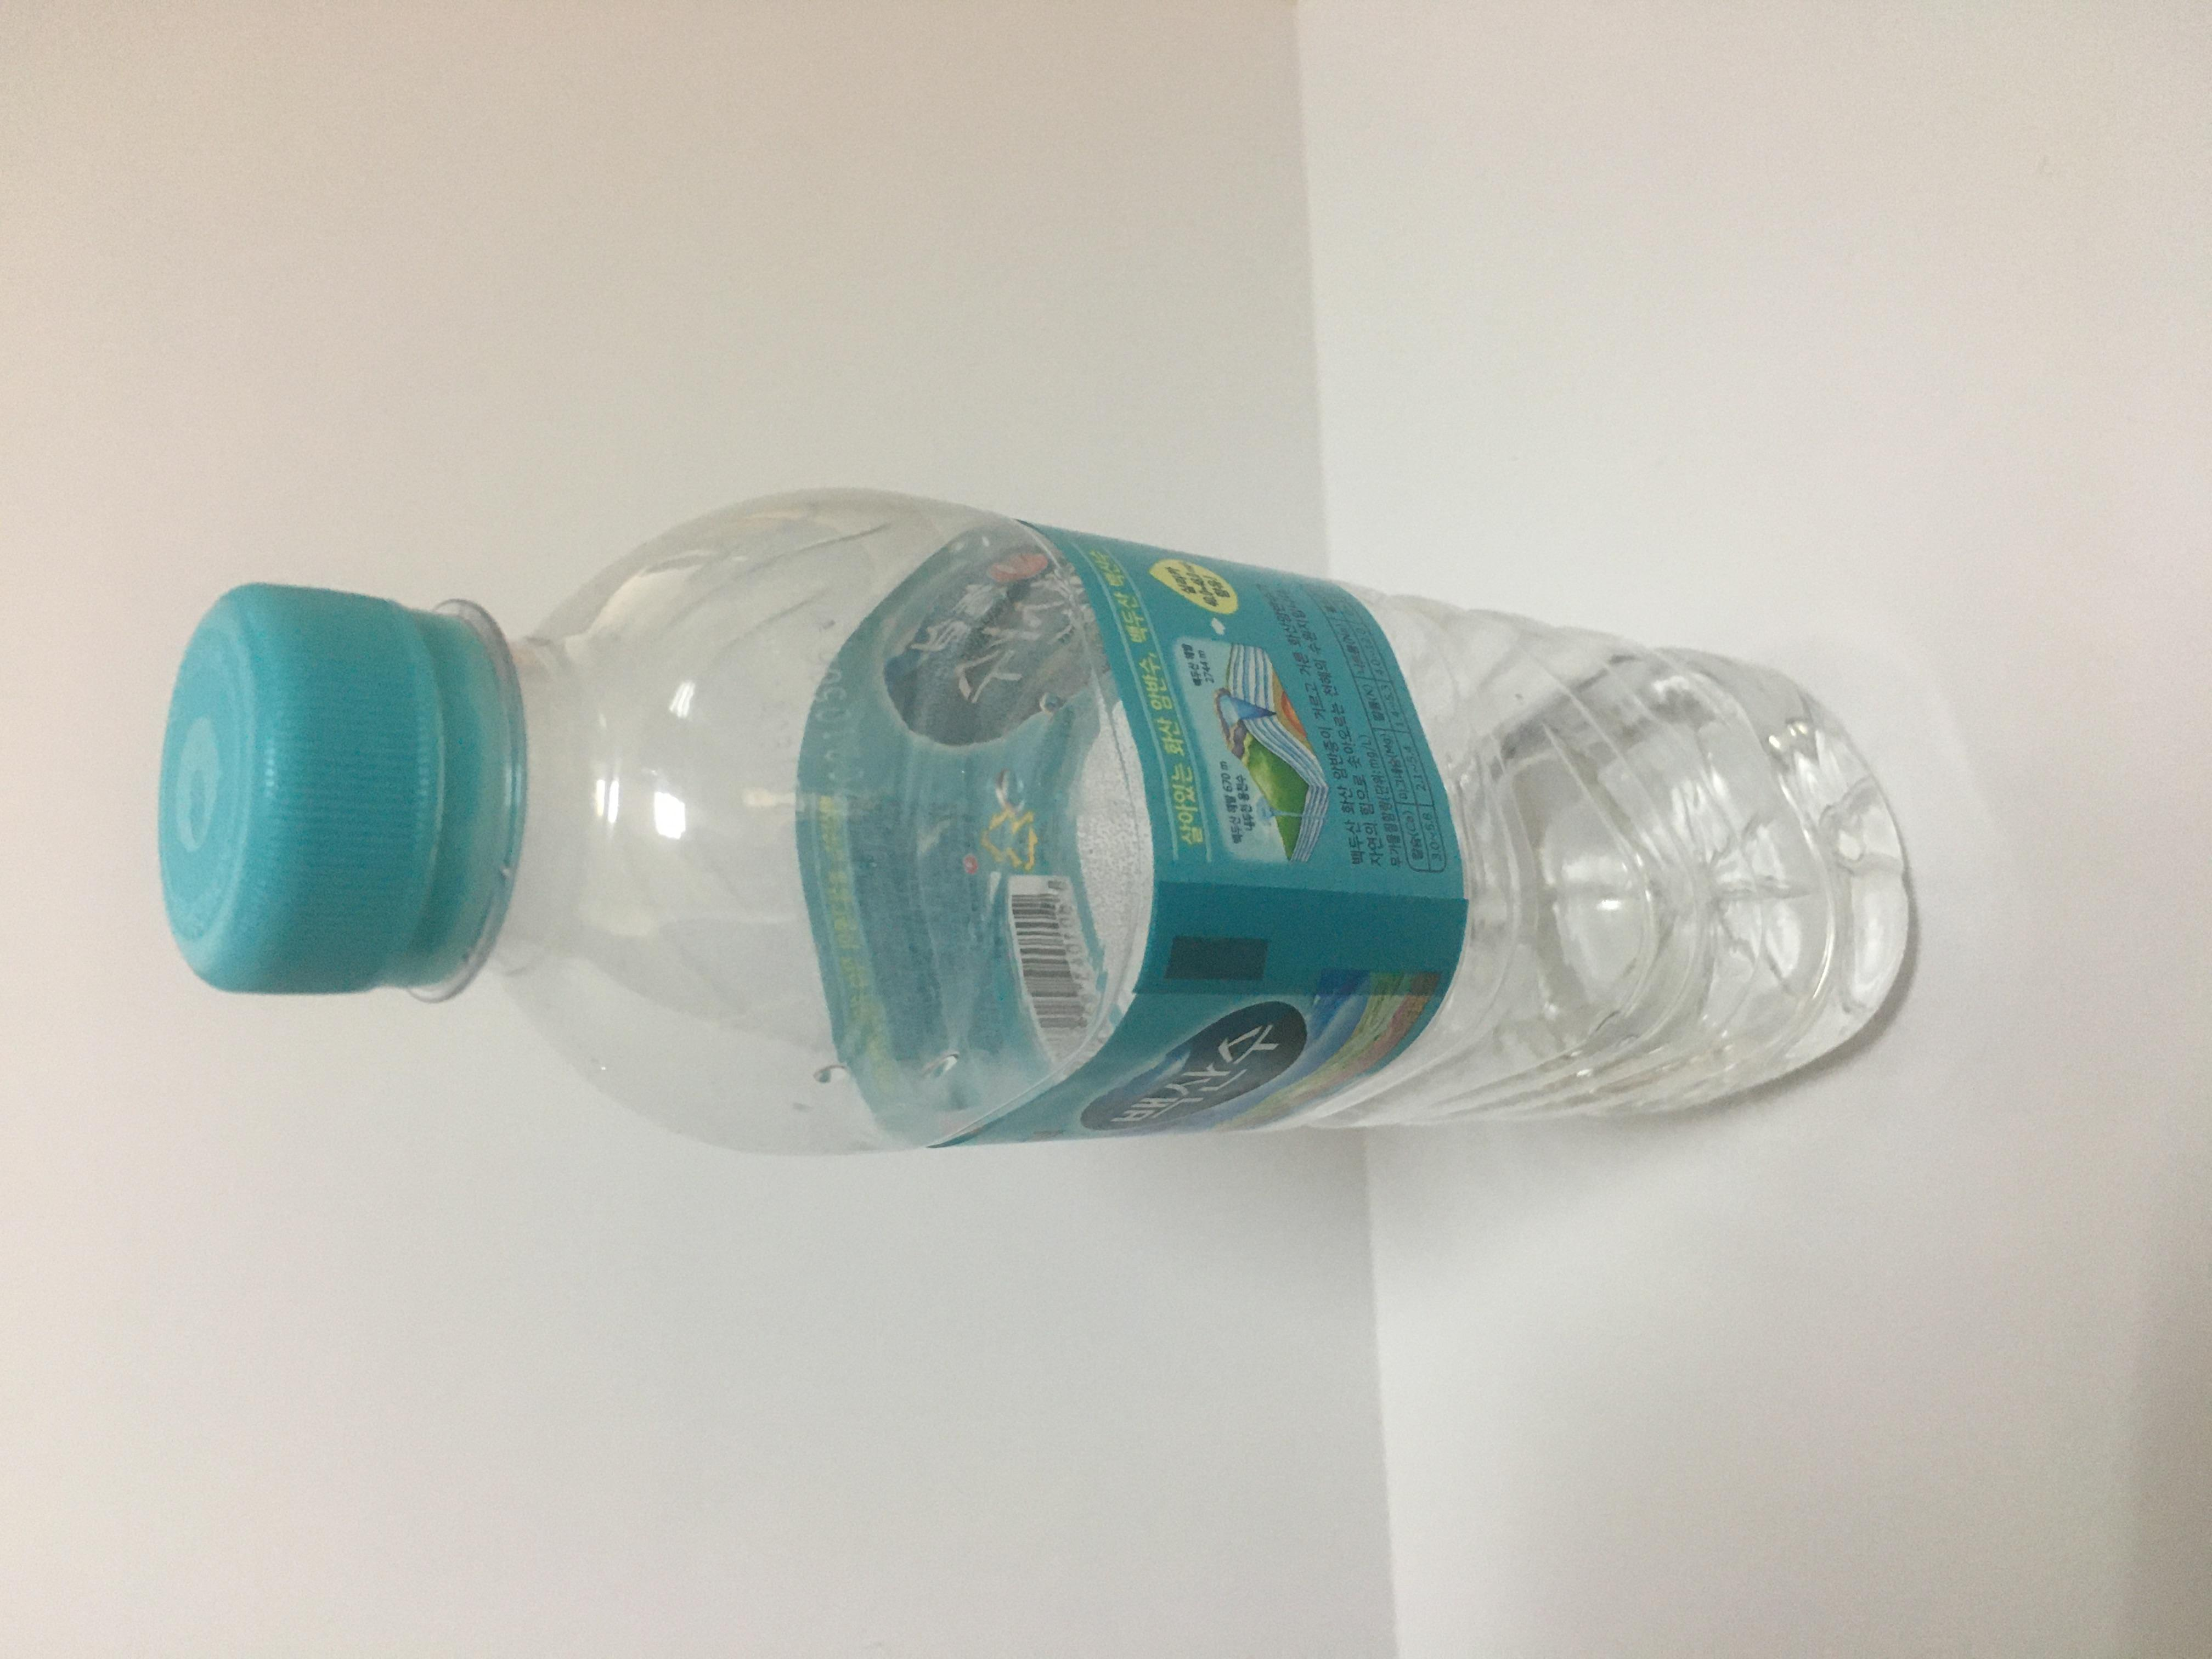bottle: (451, 742, 1359, 800)
